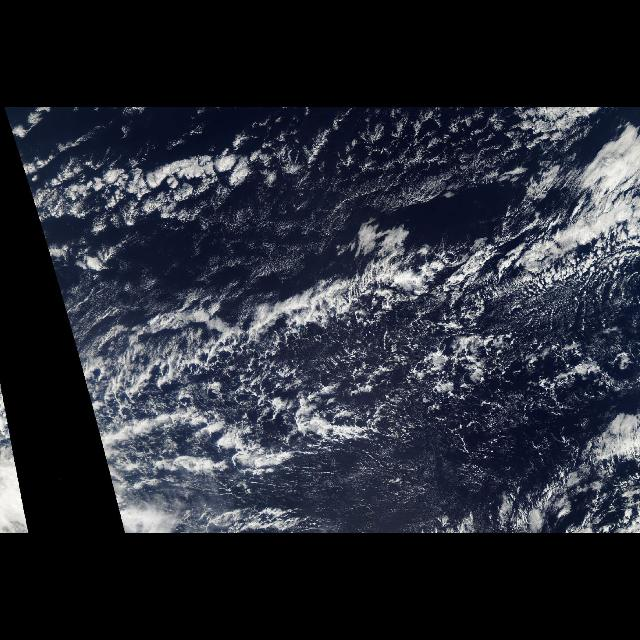Flower: (20, 158, 278, 236)
Gravel: (257, 306, 498, 456)
Sugar: (170, 178, 328, 294), (304, 446, 503, 526)
